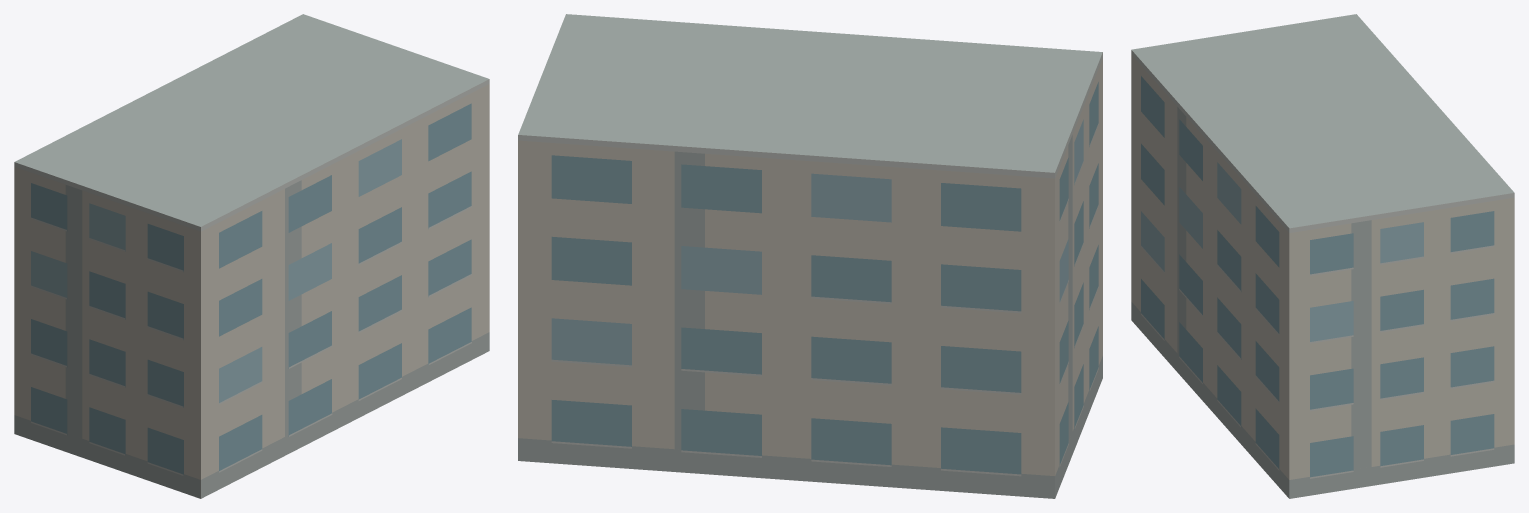
The model's file is residential-9ad21ce2-62d1-459c-9d9e-99ce51670e15.glb.
3 views of the same model, side by side, from view 1: azimuth 30°, elevation 25°; view 2: azimuth 150°, elevation 25°; view 3: azimuth 270°, elevation 25° (orthographic). The views are drawn at different scales.
Visible parts, largest first — view 1: residential-9ad21ce2-62d1-459c-9d9e-99ce51670e15.tmp; view 2: residential-9ad21ce2-62d1-459c-9d9e-99ce51670e15.tmp; view 3: residential-9ad21ce2-62d1-459c-9d9e-99ce51670e15.tmp.
Part boxes in pixels (x1,y1,x2,y2): residential-9ad21ce2-62d1-459c-9d9e-99ce51670e15.tmp: (14,14,489,498); residential-9ad21ce2-62d1-459c-9d9e-99ce51670e15.tmp: (518,14,1102,498); residential-9ad21ce2-62d1-459c-9d9e-99ce51670e15.tmp: (1131,14,1514,498).
Size of the model in its own units: 23.8 by 14 by 17.99.
